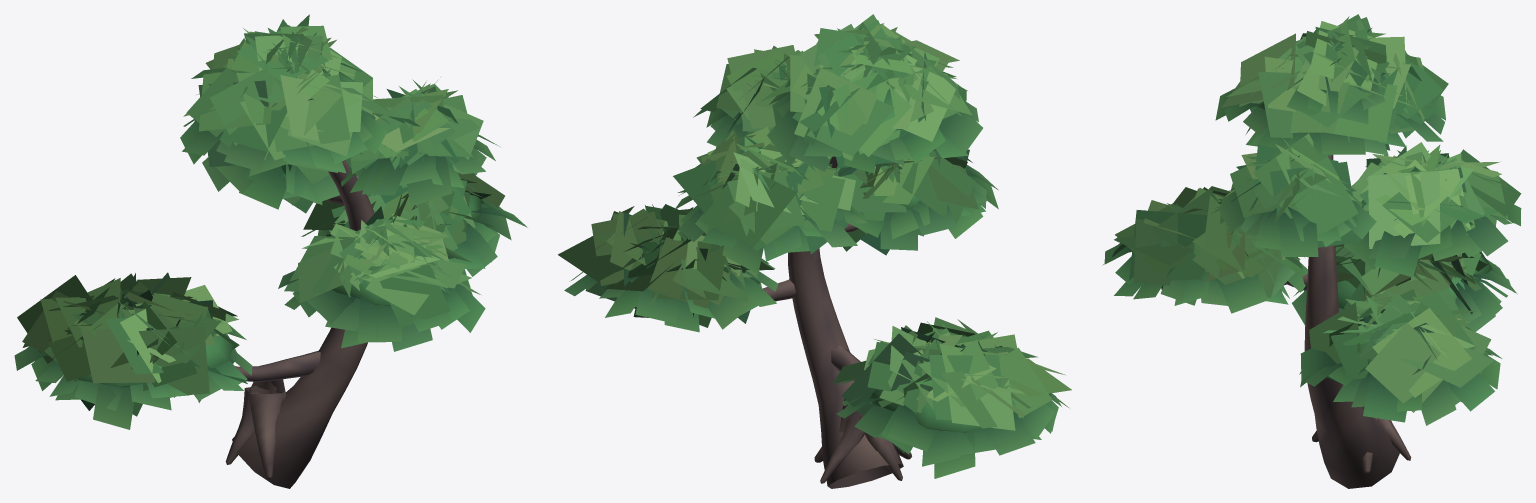
The model's file is tree-village-pine-v1.glb.
The picture shows the model from 3 angles, left to right: view 1: azimuth 30°, elevation 25°; view 2: azimuth 150°, elevation 25°; view 3: azimuth 270°, elevation 25°; orthographic projection.
Visible parts, largest first — view 1: cards_pine, bark, foliage; view 2: cards_pine, bark, foliage; view 3: cards_pine, bark, foliage.
Boxes of the visible parts, bbox=[...] form: cards_pine: bbox=[14, 14, 527, 429]; bark: bbox=[225, 160, 374, 488]; foliage: bbox=[78, 195, 483, 387]; cards_pine: bbox=[558, 14, 1071, 478]; bark: bbox=[762, 156, 911, 488]; foliage: bbox=[868, 129, 1050, 432]; cards_pine: bbox=[1102, 14, 1521, 425]; bark: bbox=[1286, 155, 1411, 488]; foliage: bbox=[1256, 104, 1492, 373].
Bounding box in the file's own units: 7.01 × 6.43 × 5.34.
